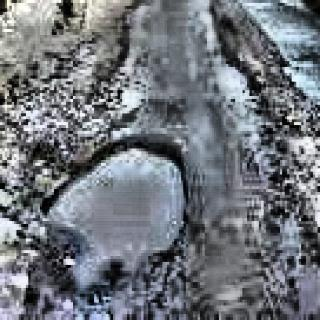alligator-crack: (0, 58, 136, 189)
pothole: (36, 132, 195, 288)
